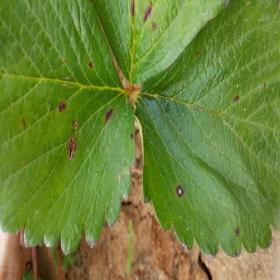Leaf Spot: (133, 0, 279, 258), (88, 0, 229, 84)
